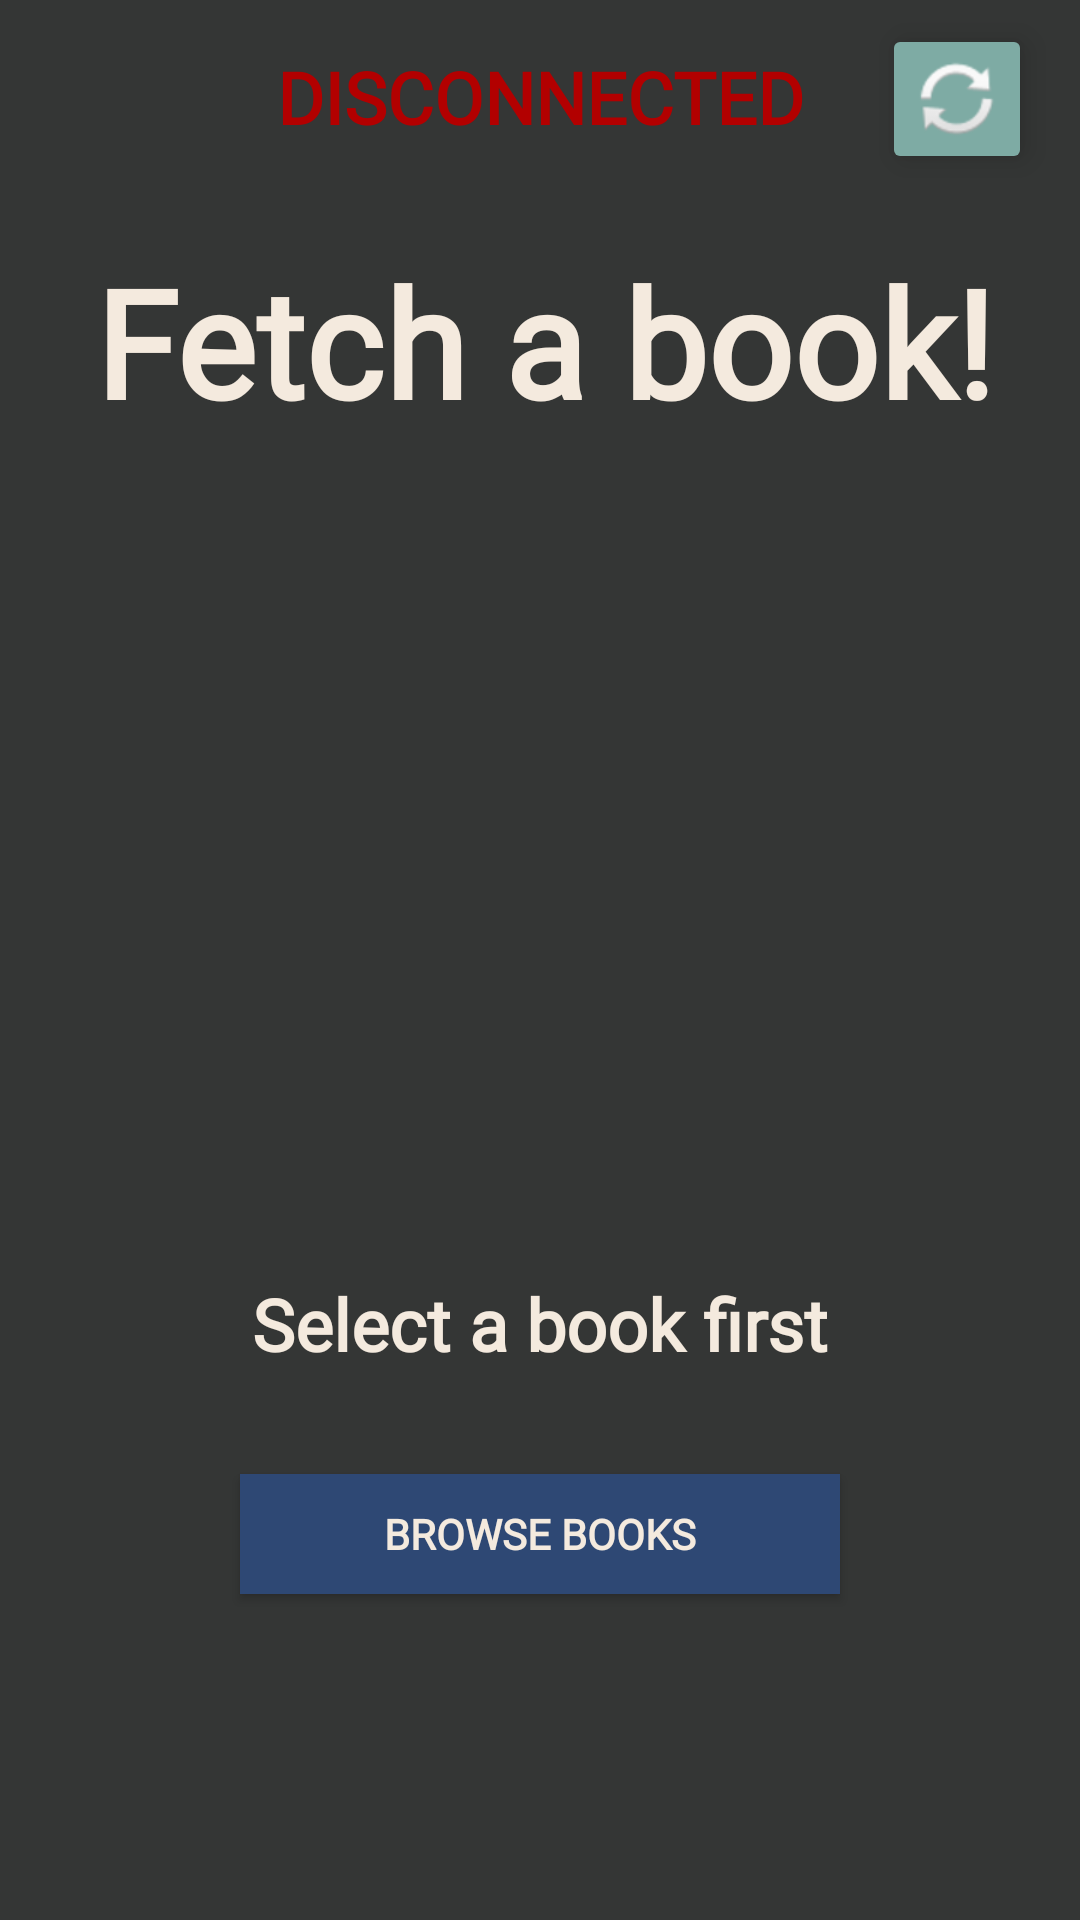

Where to tap for icons on this 1080*1920 app screen, as (x,y):
popup sync: (957,99)
